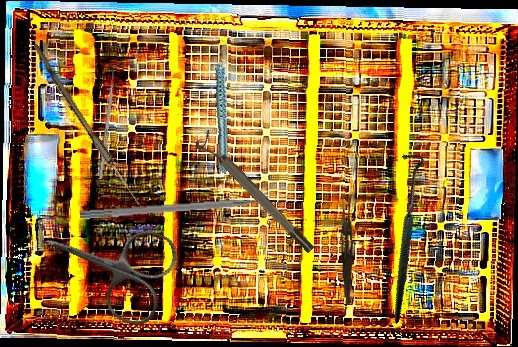Dressing Forceps: (338, 193, 356, 306)
Fixation Ring: (193, 129, 317, 261)
Handpiece: (193, 44, 254, 175)
Hook Surgical: (321, 147, 484, 325)
Iris Scissors: (29, 196, 183, 331)
Pusher: (79, 195, 287, 222), (98, 62, 117, 180)
Surgical Spoon: (29, 43, 144, 208)
